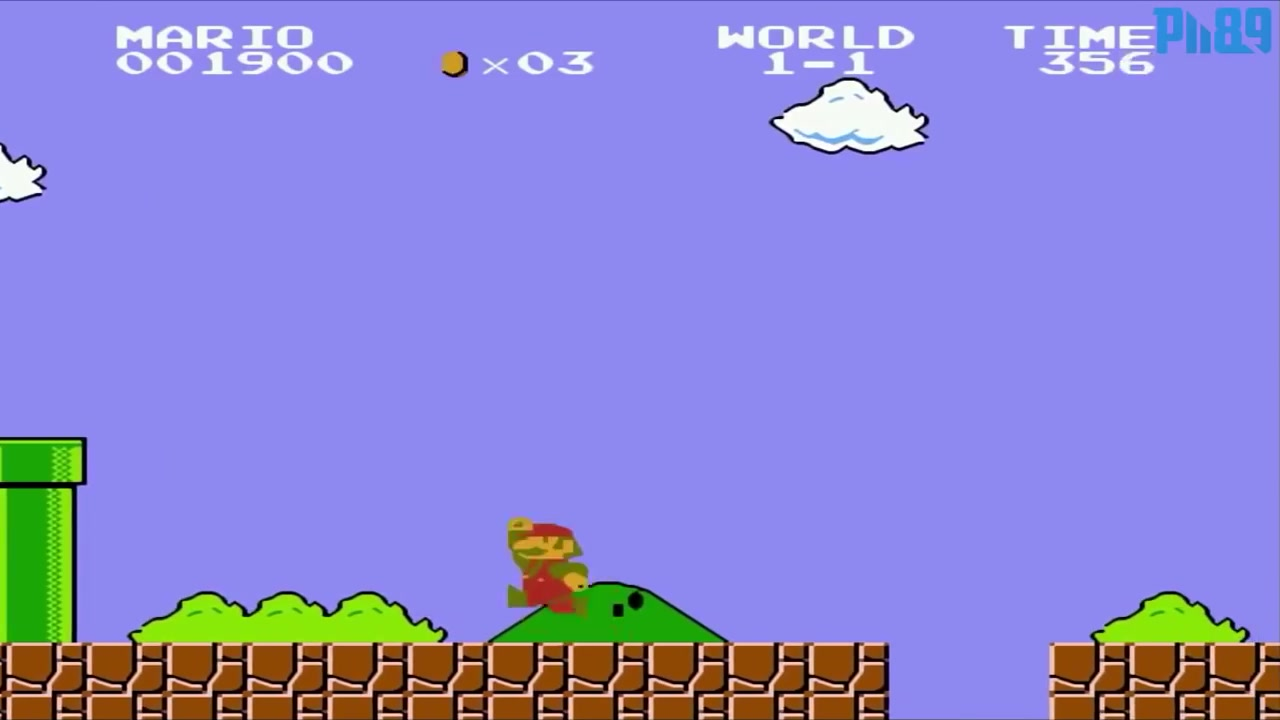mario: (496, 510, 599, 622)
